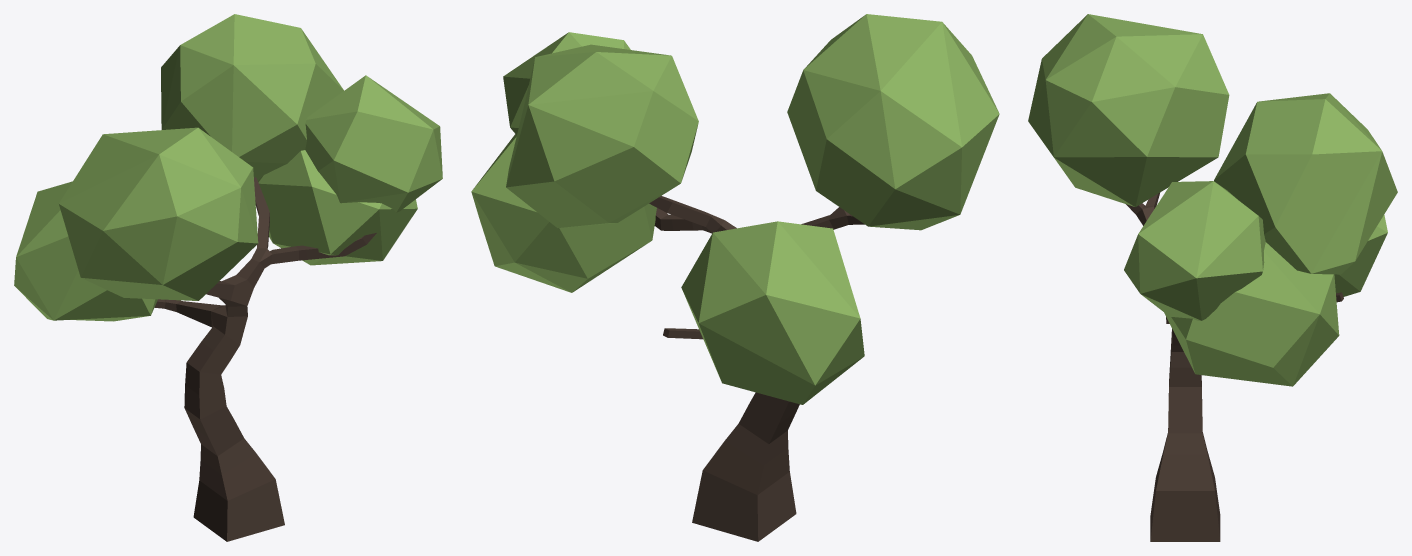
File: greentree_1.fbx
3 renders of one model, left to right at view 1: azimuth 30°, elevation 25°; view 2: azimuth 150°, elevation 25°; view 3: azimuth 270°, elevation 25°, orthographic. The views are drawn at different scales.
Parts seen in each view (by area): view 1: greentree_1; view 2: greentree_1; view 3: greentree_1.
Boxes of the visible parts, box(x1,y1,x2,y2) form: greentree_1: box(14, 14, 442, 541); greentree_1: box(471, 14, 999, 541); greentree_1: box(1028, 14, 1397, 541).
Size of the model in its own units: 1348 by 1459 by 1057.
